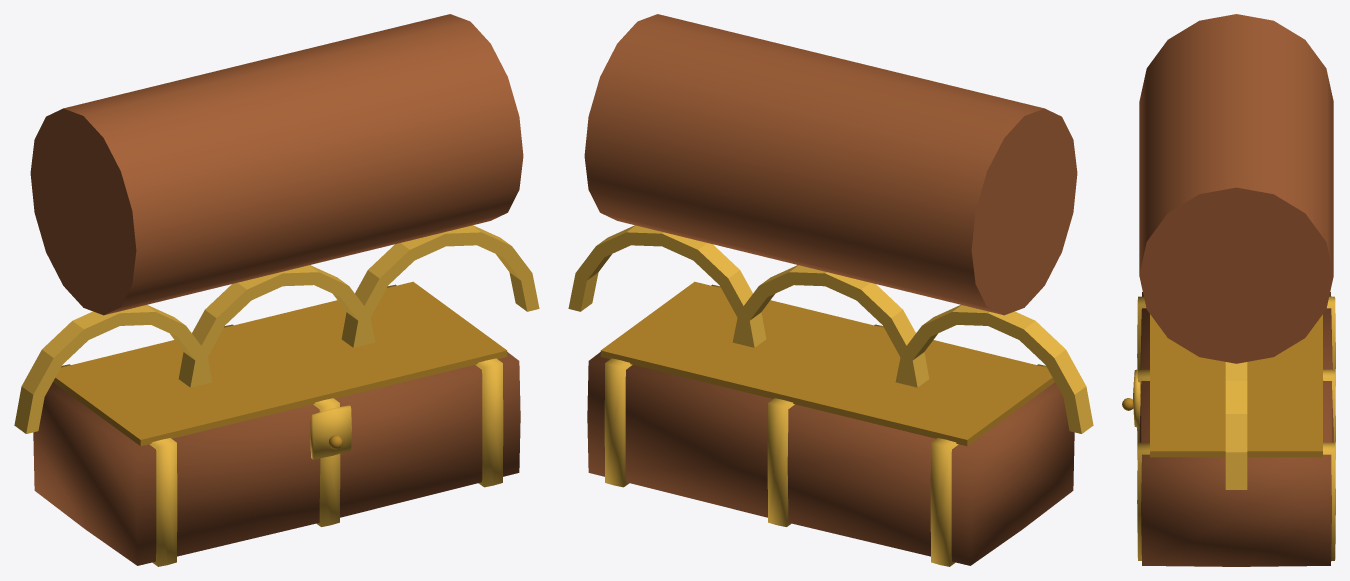
File: treasure_chest.glb
3 renders of one model, left to right at view 1: azimuth 30°, elevation 25°; view 2: azimuth 150°, elevation 25°; view 3: azimuth 270°, elevation 25°, orthographic. The views are drawn at different scales.
Visible parts, largest first — view 1: root; view 2: root; view 3: root.
Boxes of the visible parts, box(x1,y1,x2,y2) form: root: box(14, 14, 539, 566); root: box(568, 14, 1093, 566); root: box(1122, 14, 1335, 566).
Bounding box in the file's own units: 2.04 × 1.59 × 0.8022.
